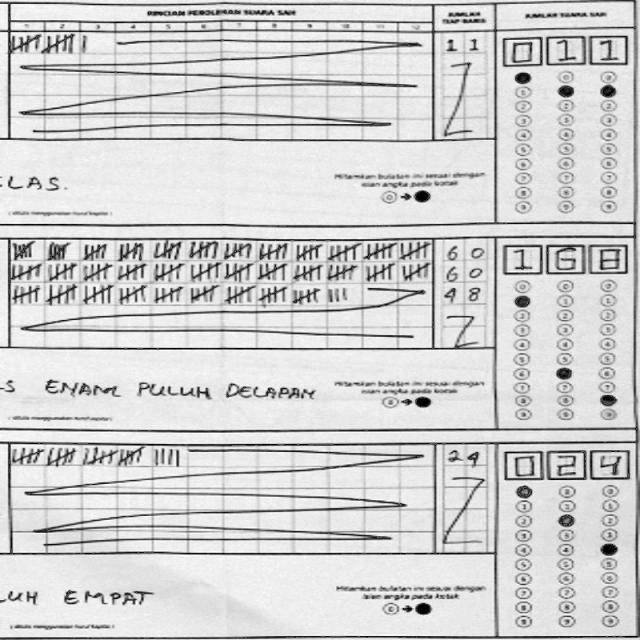Suara: (496, 441, 629, 480), (496, 30, 629, 66), (498, 238, 628, 274)
